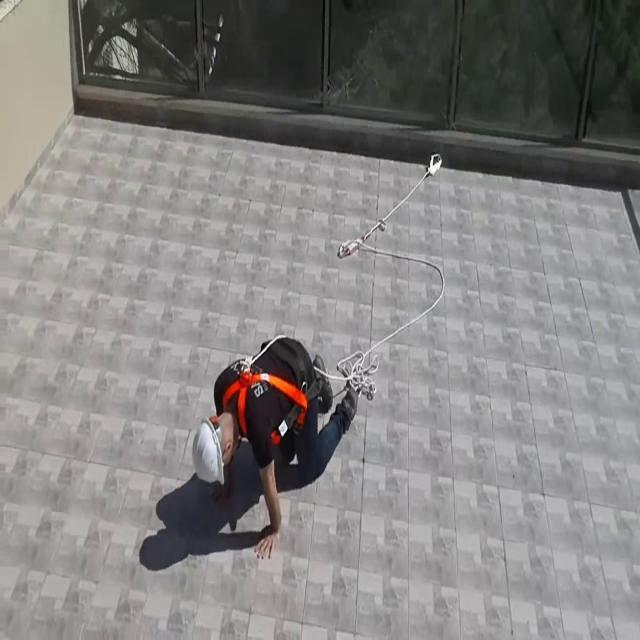Harness: (331, 155, 446, 400), (223, 373, 308, 438)
